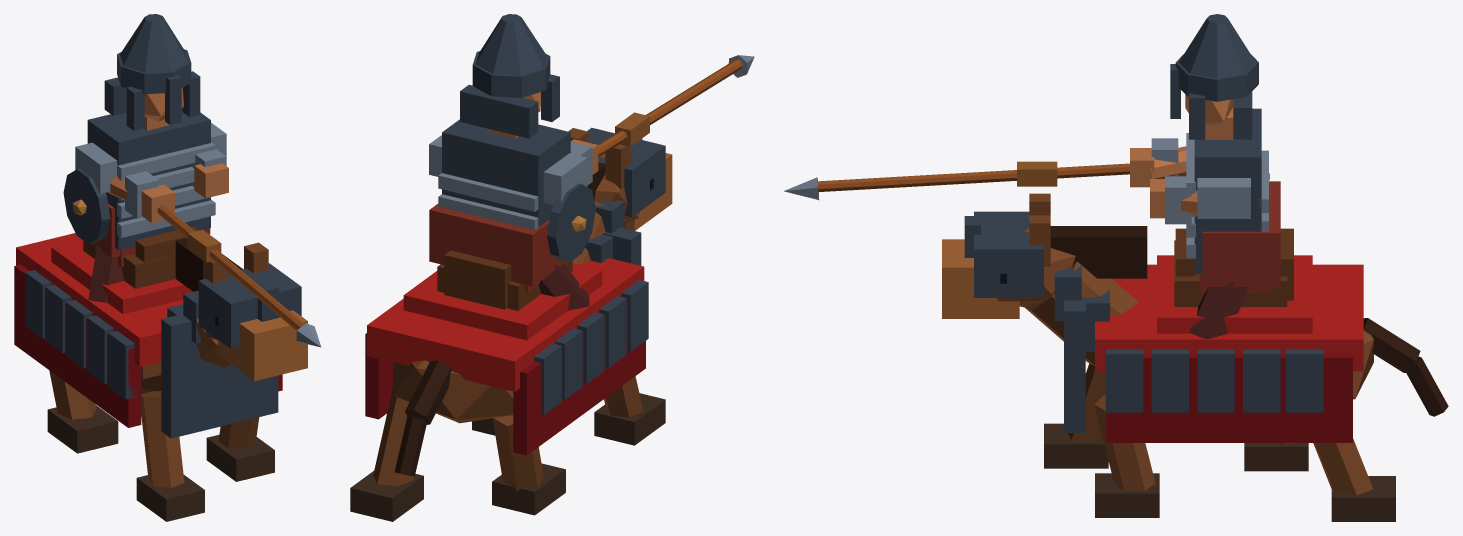
The model's file is cataphractus.glb.
3 views of the same model, side by side, from view 1: azimuth 30°, elevation 25°; view 2: azimuth 150°, elevation 25°; view 3: azimuth 270°, elevation 25° (orthographic). The views are drawn at different scales.
Parts seen in each view (by area): view 1: 33_Bardatura_Petto, 61_Catafratto_Corazza_Busto, 31_Bardatura_Falda_Sinistra, 30_Bardatura_Coperta_Corpo, 36_Bardatura_Testa, 07_Cavallo_Muso, 50_Coperta_Sella, 74_Catafratto_Elmo_Conico, 20_Zampa_Anteriore_Sinistra, 95_Catafratto_Scudo_Rotondo, 25_Zoccolo_Posteriore_Sinistro, 21_Zoccolo_Anteriore_Sinistro (+36 smaller); view 2: 30_Bardatura_Coperta_Corpo, 61_Catafratto_Corazza_Busto, 62_Catafratto_Gonnellino_Lamellare, 31_Bardatura_Falda_Sinistra, 50_Coperta_Sella, 04_Cavallo_Groppa, 53_Arcione_Sella, 74_Catafratto_Elmo_Conico, 78_Catafratto_Protezione_Collo, 36_Bardatura_Testa, 95_Catafratto_Scudo_Rotondo, 27_Zoccolo_Posteriore_Destro (+30 smaller); view 3: 32_Bardatura_Falda_Destra, 30_Bardatura_Coperta_Corpo, 36_Bardatura_Testa, 50_Coperta_Sella, 62_Catafratto_Gonnellino_Lamellare, 61_Catafratto_Corazza_Busto, 12_Cavallo_Criniera, 07_Cavallo_Muso, 74_Catafratto_Elmo_Conico, 90_Kontos_Asta, 33_Bardatura_Petto, 40_Barda_Destra_1 (+28 smaller).
Boxes of the visible parts, x1,y1,x2,y2 form: 33_Bardatura_Petto: (161, 314, 278, 438); 61_Catafratto_Corazza_Busto: (87, 108, 210, 250); 31_Bardatura_Falda_Sinistra: (14, 264, 141, 427); 30_Bardatura_Coperta_Corpo: (16, 233, 183, 366); 36_Bardatura_Testa: (198, 263, 301, 348); 07_Cavallo_Muso: (218, 310, 307, 381); 50_Coperta_Sella: (51, 239, 192, 314); 74_Catafratto_Elmo_Conico: (120, 14, 188, 72); 20_Zampa_Anteriore_Sinistra: (141, 391, 184, 488); 95_Catafratto_Scudo_Rotondo: (63, 168, 110, 244); 25_Zoccolo_Posteriore_Sinistro: (47, 405, 118, 453); 21_Zoccolo_Anteriore_Sinistro: (136, 475, 204, 521); 30_Bardatura_Coperta_Corpo: (367, 258, 644, 391); 61_Catafratto_Corazza_Busto: (442, 119, 570, 227); 62_Catafratto_Gonnellino_Lamellare: (429, 204, 566, 286); 31_Bardatura_Falda_Sinistra: (513, 299, 645, 455); 50_Coperta_Sella: (403, 263, 602, 340); 04_Cavallo_Groppa: (392, 360, 513, 423); 53_Arcione_Sella: (444, 250, 511, 309); 74_Catafratto_Elmo_Conico: (475, 14, 547, 75); 78_Catafratto_Protezione_Collo: (460, 85, 538, 138); 36_Bardatura_Testa: (587, 127, 665, 217); 95_Catafratto_Scudo_Rotondo: (547, 183, 595, 262); 27_Zoccolo_Posteriore_Destro: (350, 471, 423, 521); 32_Bardatura_Falda_Destra: (1105, 354, 1352, 442); 30_Bardatura_Coperta_Corpo: (1095, 264, 1363, 371); 36_Bardatura_Testa: (974, 211, 1043, 297); 50_Coperta_Sella: (1157, 255, 1312, 333); 62_Catafratto_Gonnellino_Lamellare: (1202, 181, 1280, 286); 61_Catafratto_Corazza_Busto: (1194, 108, 1261, 274); 12_Cavallo_Criniera: (1050, 226, 1147, 278); 07_Cavallo_Muso: (942, 239, 1019, 318); 74_Catafratto_Elmo_Conico: (1179, 14, 1255, 78); 90_Kontos_Asta: (817, 163, 1129, 191); 33_Bardatura_Petto: (1064, 297, 1085, 432); 40_Barda_Destra_1: (1105, 349, 1143, 412).
Size of the model in its own units: 1.49 by 3.82 by 4.95.
